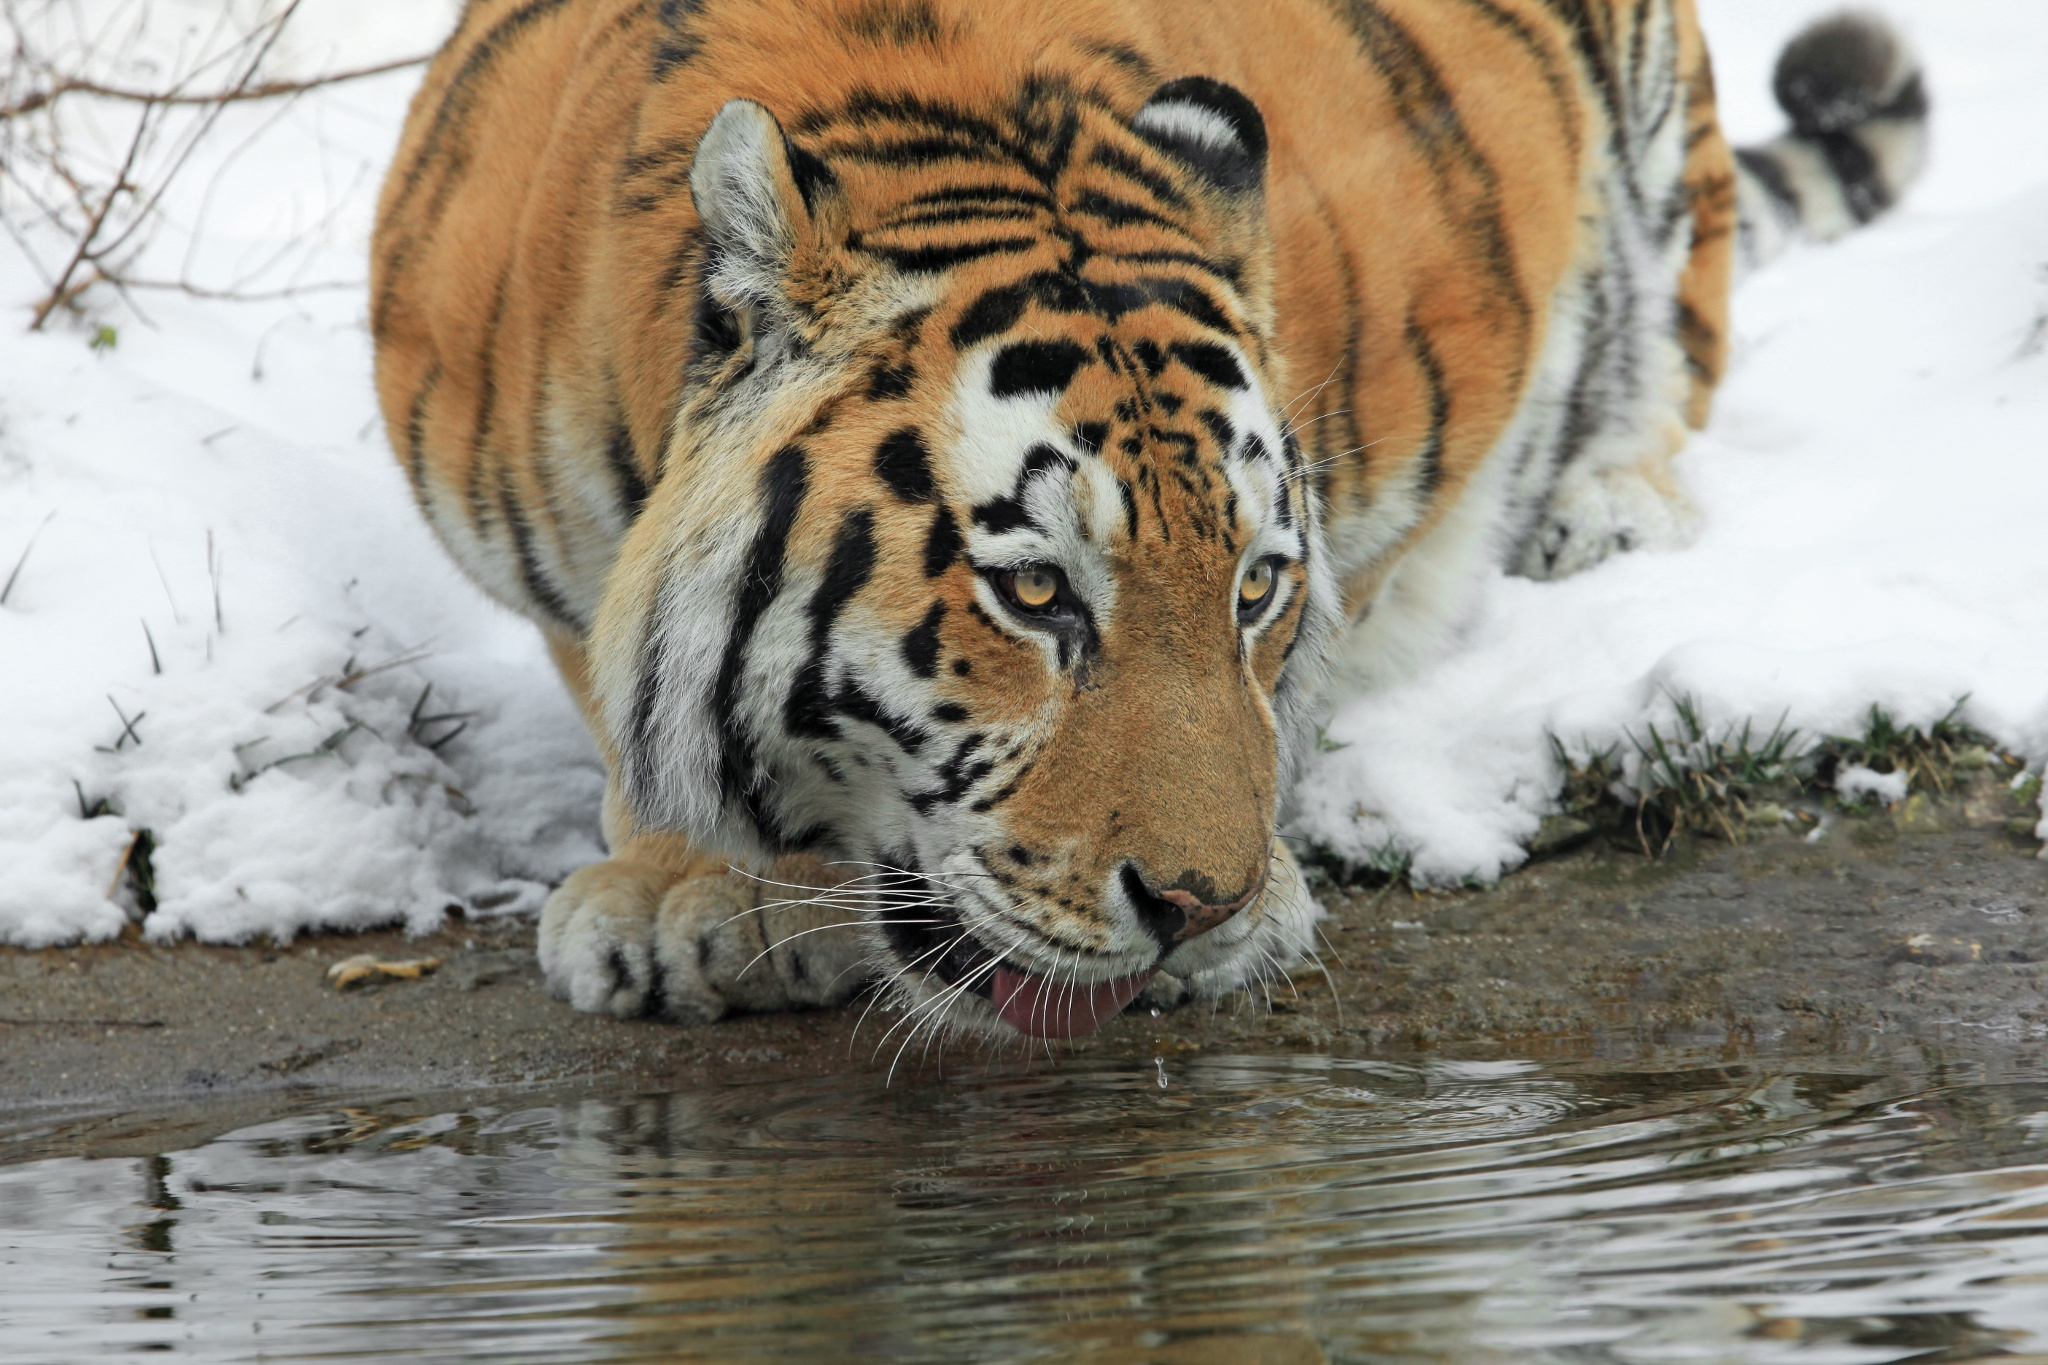tiger: (318, 50, 1762, 1085)
